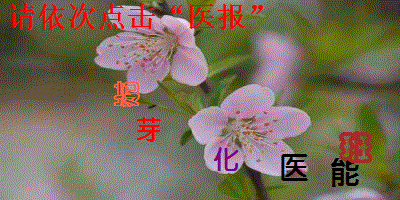result: (186, 1, 248, 31)
text: (337, 129, 374, 166), (329, 157, 361, 190), (278, 150, 309, 184), (110, 79, 143, 109), (212, 144, 242, 174), (135, 116, 162, 145)
